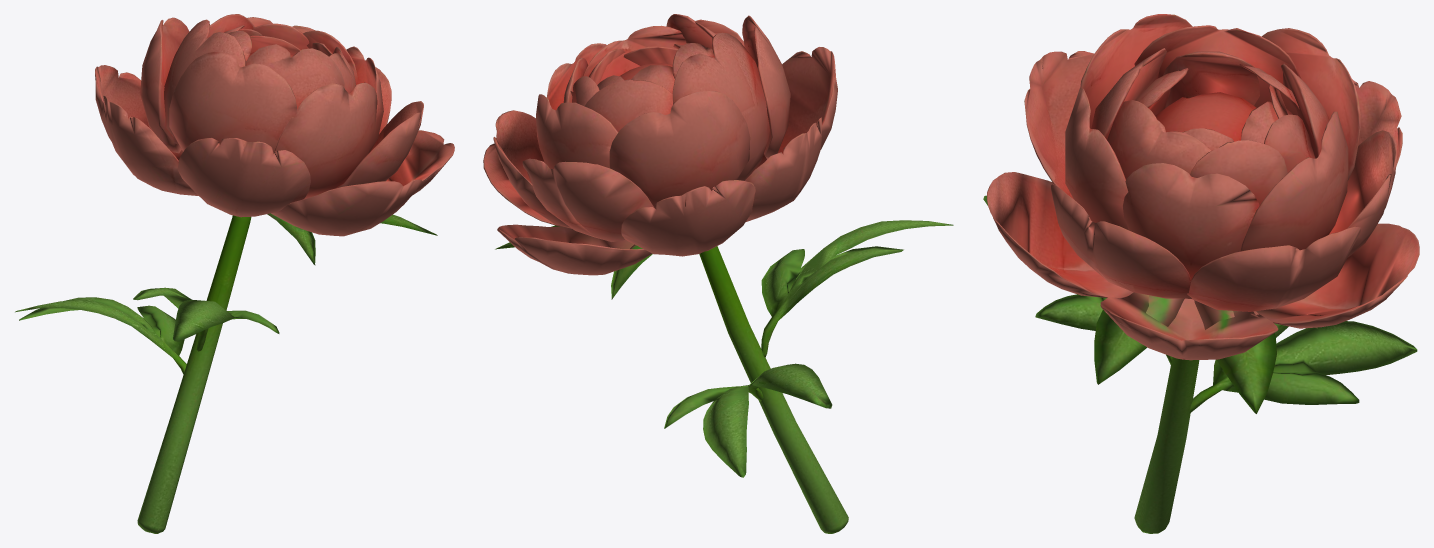
The model's file is tripo_convert_12ef2a73-0324-4ad9-88ee-41de83e7c215.fbx.
The picture shows the model from 3 angles, left to right: view 1: azimuth 30°, elevation 25°; view 2: azimuth 150°, elevation 25°; view 3: azimuth 270°, elevation 25°; orthographic projection. The views are drawn at different scales.
Parts seen in each view (by area): view 1: tripo_node_12ef2a73; view 2: tripo_node_12ef2a73; view 3: tripo_node_12ef2a73.
Part boxes in pixels (left/top/right/bottom): tripo_node_12ef2a73: left=15, top=14, right=454, bottom=533; tripo_node_12ef2a73: left=483, top=14, right=953, bottom=533; tripo_node_12ef2a73: left=983, top=14, right=1419, bottom=533.
Size of the model in its own units: 0.8496 by 0.998 by 0.7051.
Materials: 1 (1 with a texture image).
